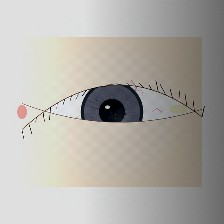pinguecula_lesion: (160, 95, 196, 124)
